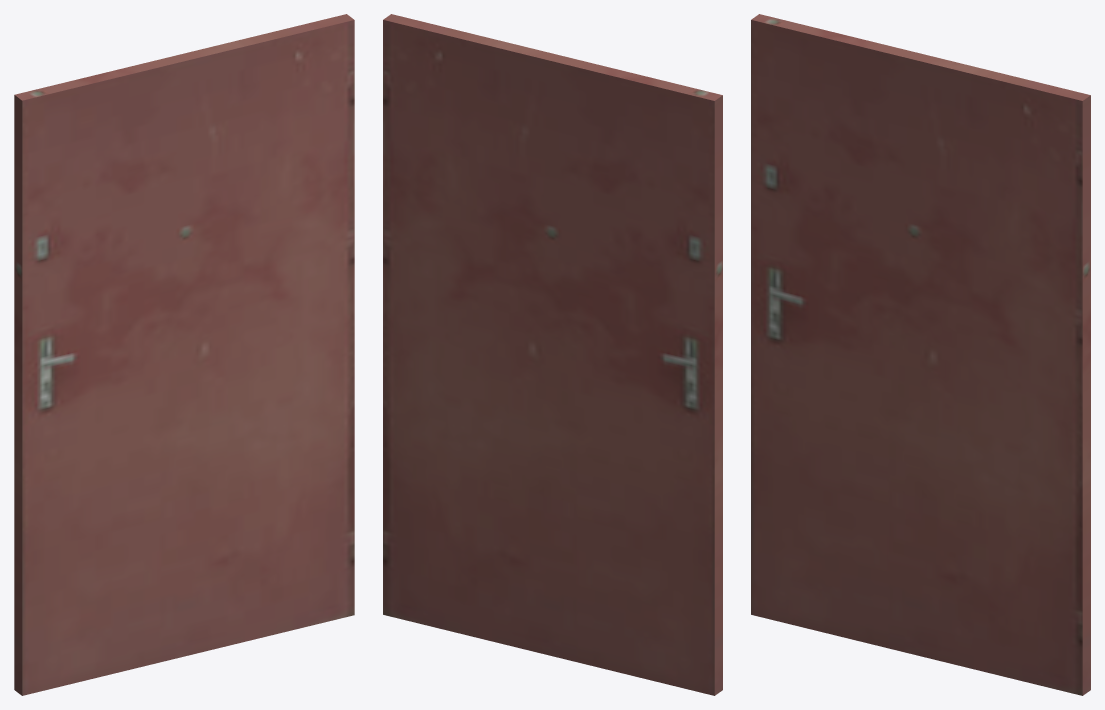
The model's file is SM_HK_03_Door_00.fbx.
3 renders of one model, left to right at view 1: azimuth 30°, elevation 25°; view 2: azimuth 150°, elevation 25°; view 3: azimuth 330°, elevation 25°, orthographic.
Parts seen in each view (by area): view 1: SM_HK_03_Door_00; view 2: SM_HK_03_Door_00; view 3: SM_HK_03_Door_00.
Part boxes in pixels (x1=…): SM_HK_03_Door_00: x1=14, y1=14, x2=354, y2=695; SM_HK_03_Door_00: x1=383, y1=14, x2=722, y2=695; SM_HK_03_Door_00: x1=751, y1=14, x2=1090, y2=695.
Bounding box in the file's own units: 218 × 372 × 9.48.
